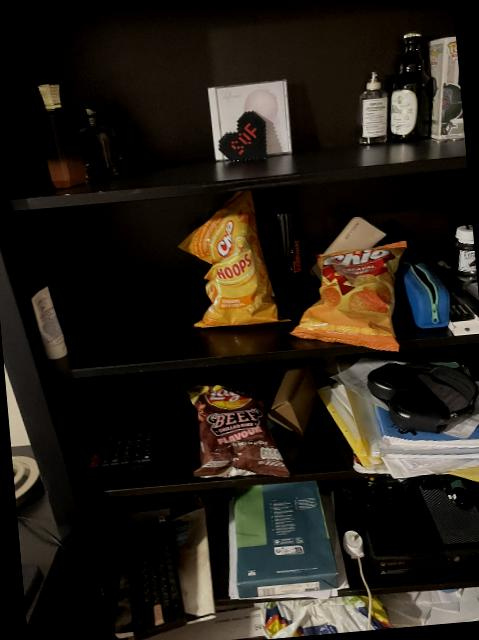Chio Cascaval 125g: (282, 235, 416, 358)
Chio Hula Hoops Cheese 70g: (176, 188, 288, 332)
Lays Beef Grilled Ribs 125g: (182, 376, 288, 485)
